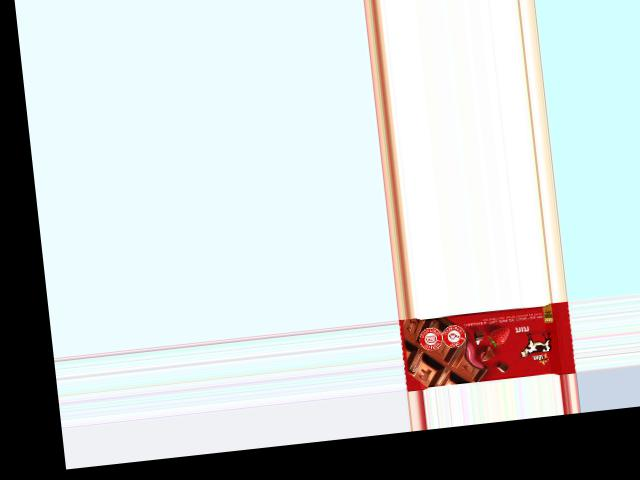chocolate: (399, 301, 577, 391)
